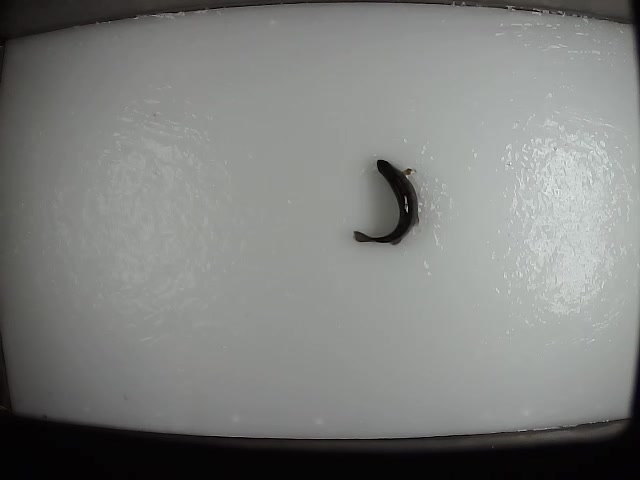fish: (352, 157, 421, 247)
